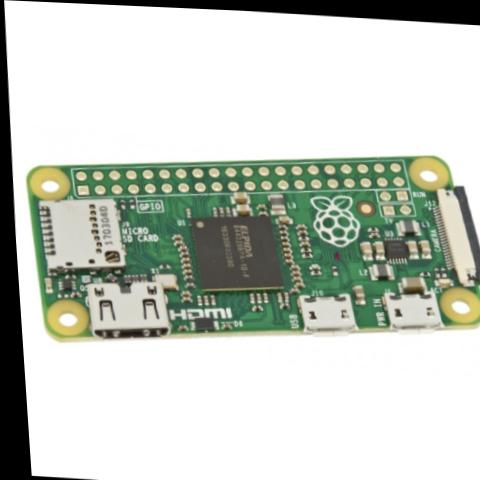Raspberry-Pi-Zero: (18, 129, 480, 366)
